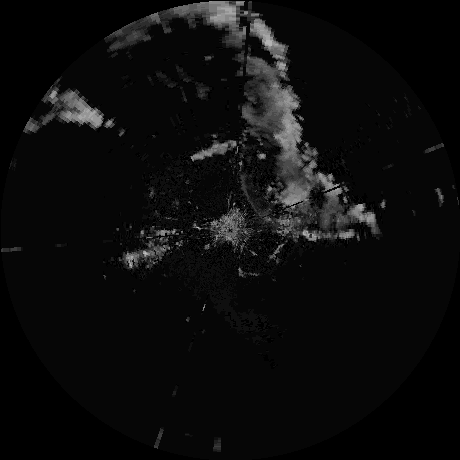frontgust: (239, 156, 274, 221)
